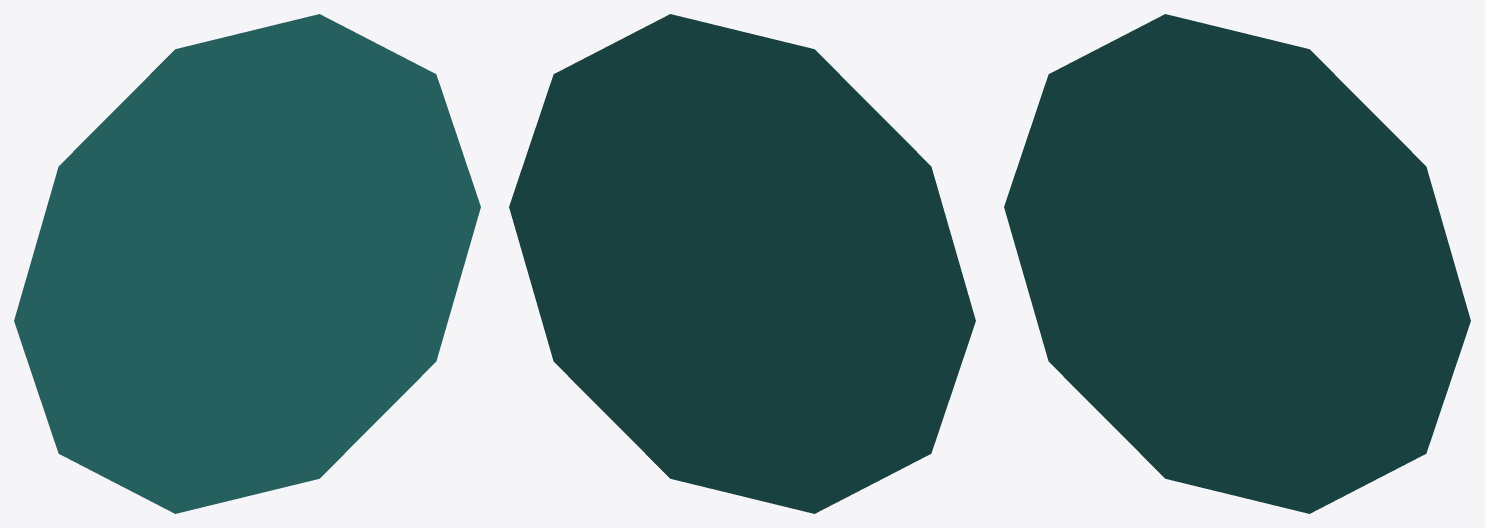
The model's file is glass_1.fbx.
The picture shows the model from 3 angles, left to right: view 1: azimuth 30°, elevation 25°; view 2: azimuth 150°, elevation 25°; view 3: azimuth 330°, elevation 25°; orthographic projection.
Visible parts, largest first — view 1: glass_1; view 2: glass_1; view 3: glass_1.
Part boxes in pixels (left/top/right/bottom): glass_1: left=14, top=14, right=480, bottom=513; glass_1: left=509, top=14, right=975, bottom=513; glass_1: left=1004, top=14, right=1470, bottom=513.
Size of the model in its own units: 91.21 by 86.75 by 0.
Materials: 1 (1 with a texture image).
